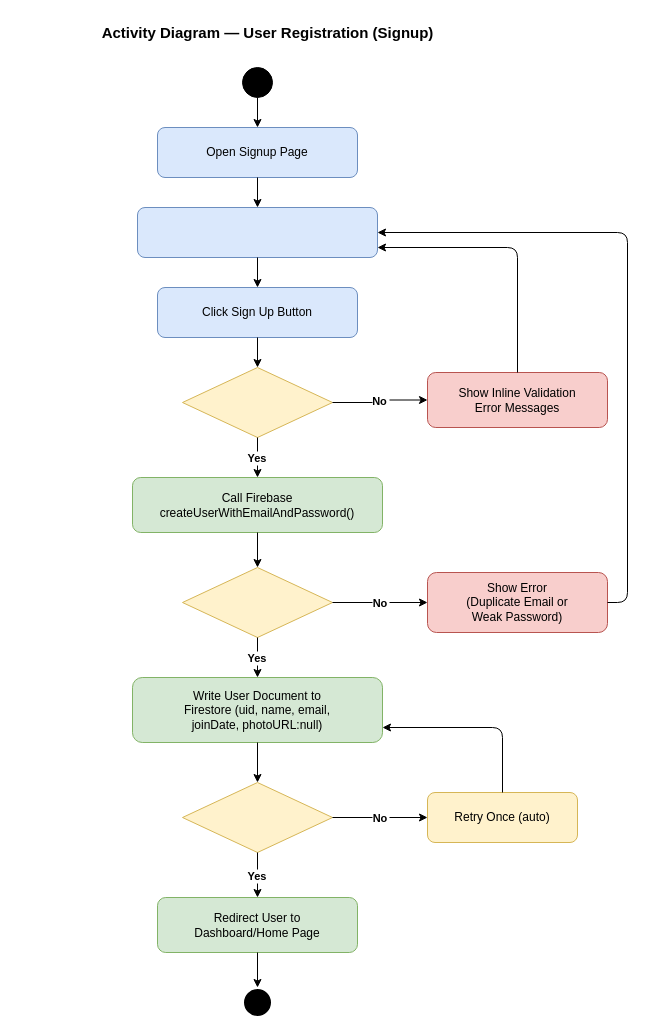
The diagram is 653 pixels wide and 1036 high, and some of its shapes have lost their labels. The centre of each missing label's shape, as x and y in pixels:
"Enter Name, Email, Password, Confirm Password" belongs at point (257, 232).
"Firebase Success?" belongs at point (257, 602).
"Valid Input?" belongs at point (257, 402).
"Write Success?" belongs at point (257, 817).
